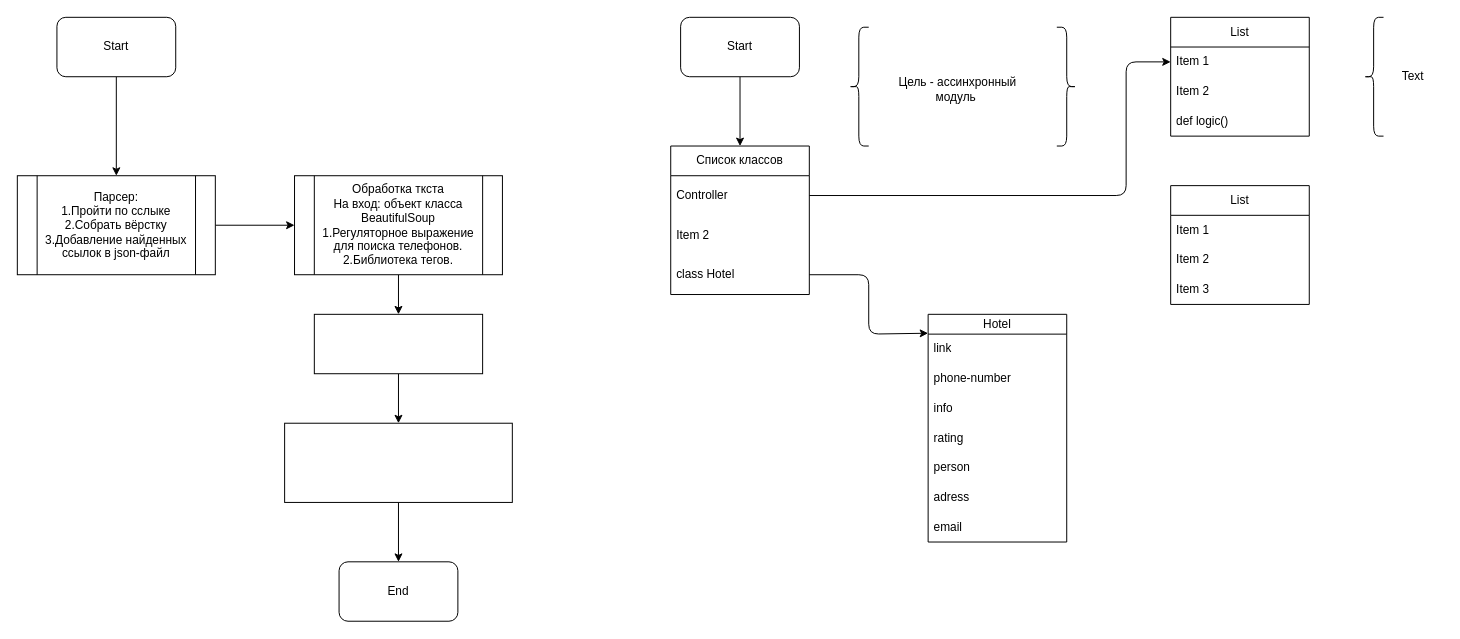
Some shapes in this 1460 by 639 pixel diagram are drawn without their labels. Each missing label, with the centre of its shape:
"Запись в json-файл" goes at (398,343).
"Конвертируем таблицу excel" goes at (398,462).
